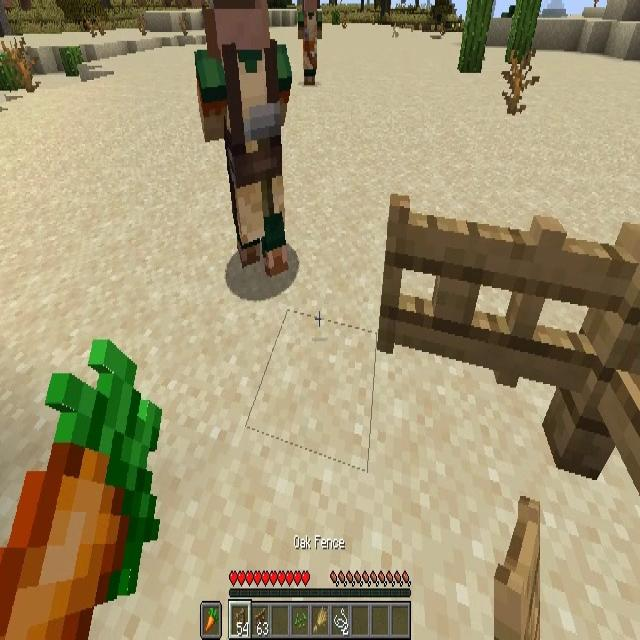people: (194, 12, 290, 277), (297, 0, 322, 88)
